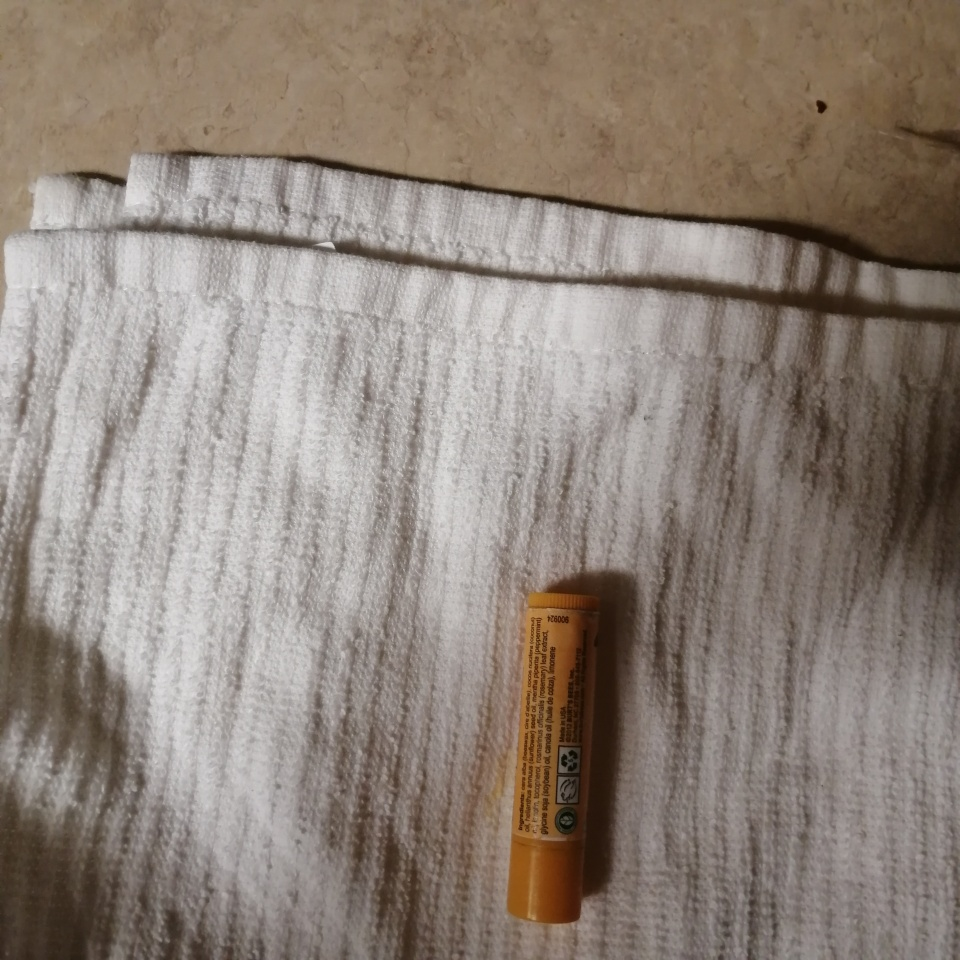chapstick: (502, 594, 608, 922)
